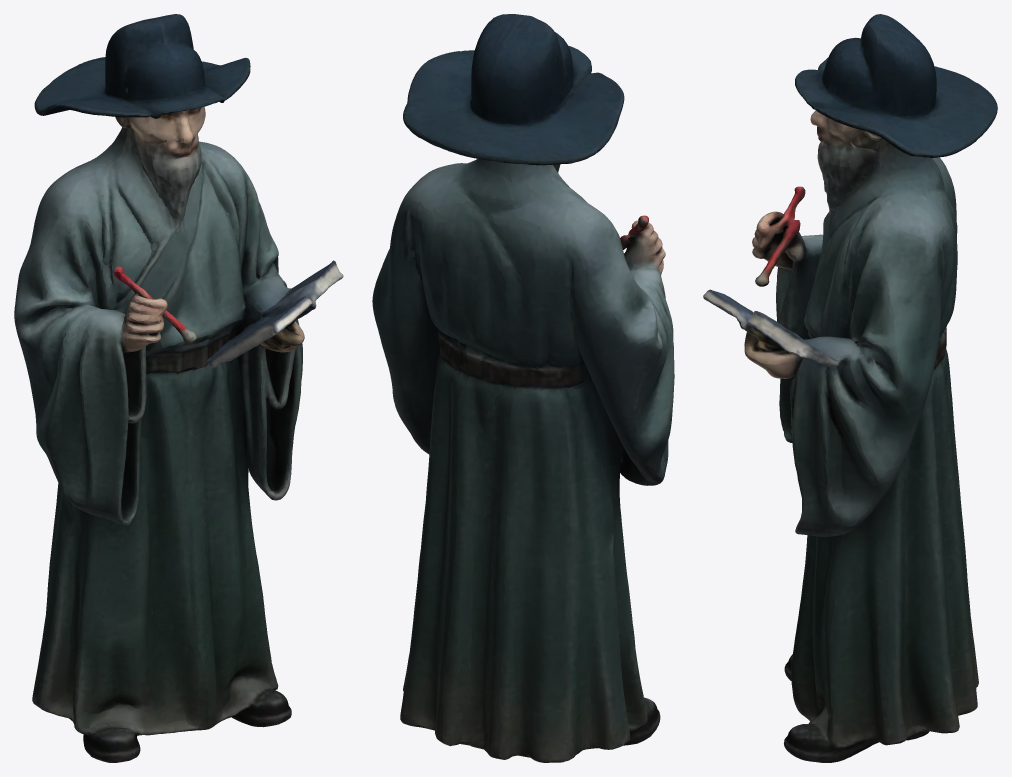
File: S0-41_judge_standing_A.glb
3 renders of one model, left to right at view 1: azimuth 30°, elevation 25°; view 2: azimuth 150°, elevation 25°; view 3: azimuth 270°, elevation 25°, orthographic. The views are drawn at different scales.
Visible parts, largest first — view 1: geometry_0; view 2: geometry_0; view 3: geometry_0.
Boxes of the visible parts, <box> form: geometry_0: <box>14,14,343,762</box>; geometry_0: <box>372,14,674,762</box>; geometry_0: <box>703,14,997,762</box>.
Bounding box in the file's own units: 0.7537 × 1.8 × 0.6935.
Materials: 1 (1 with a texture image).
